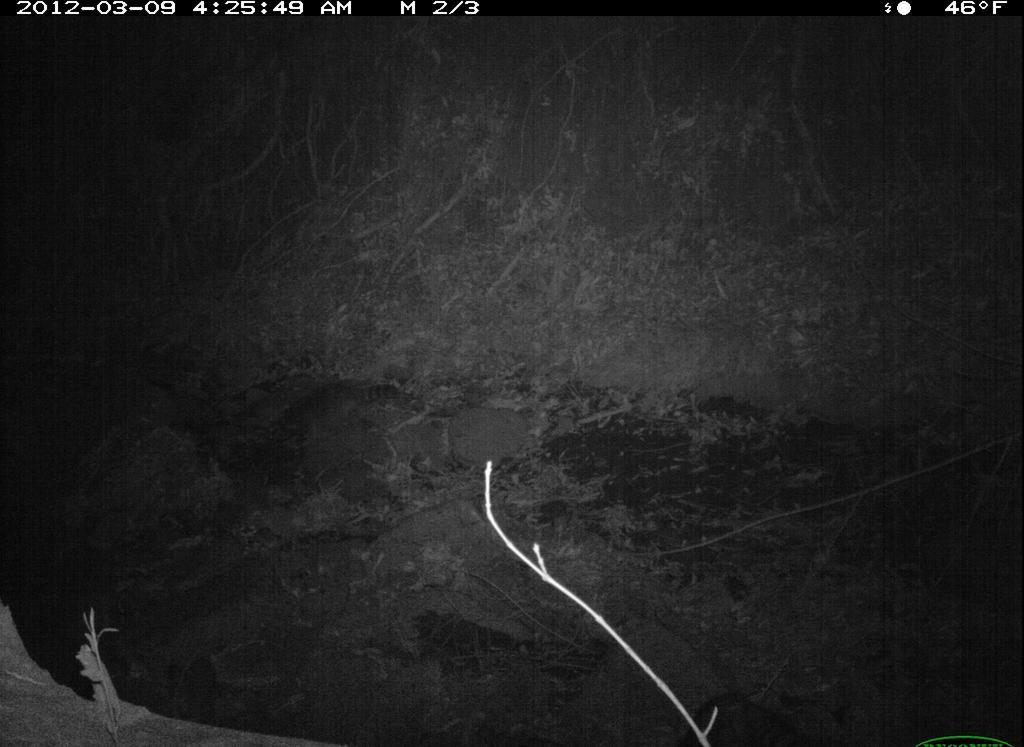raccoon: (273, 378, 412, 455)
